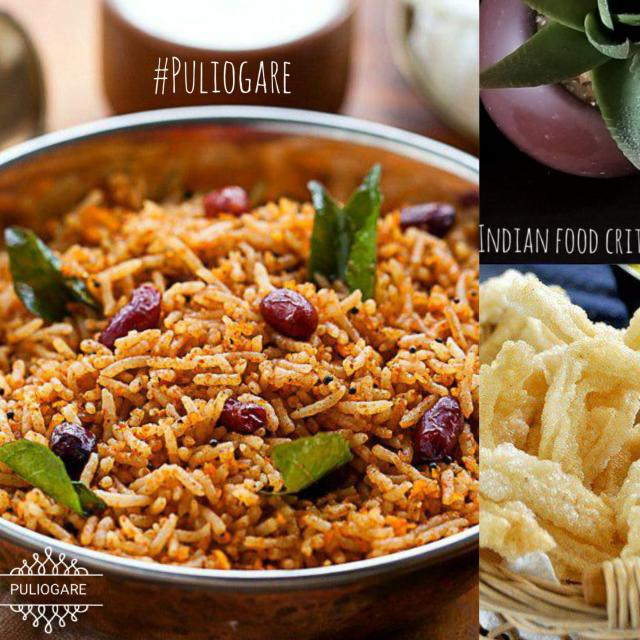puliyogare: (0, 138, 481, 578)
